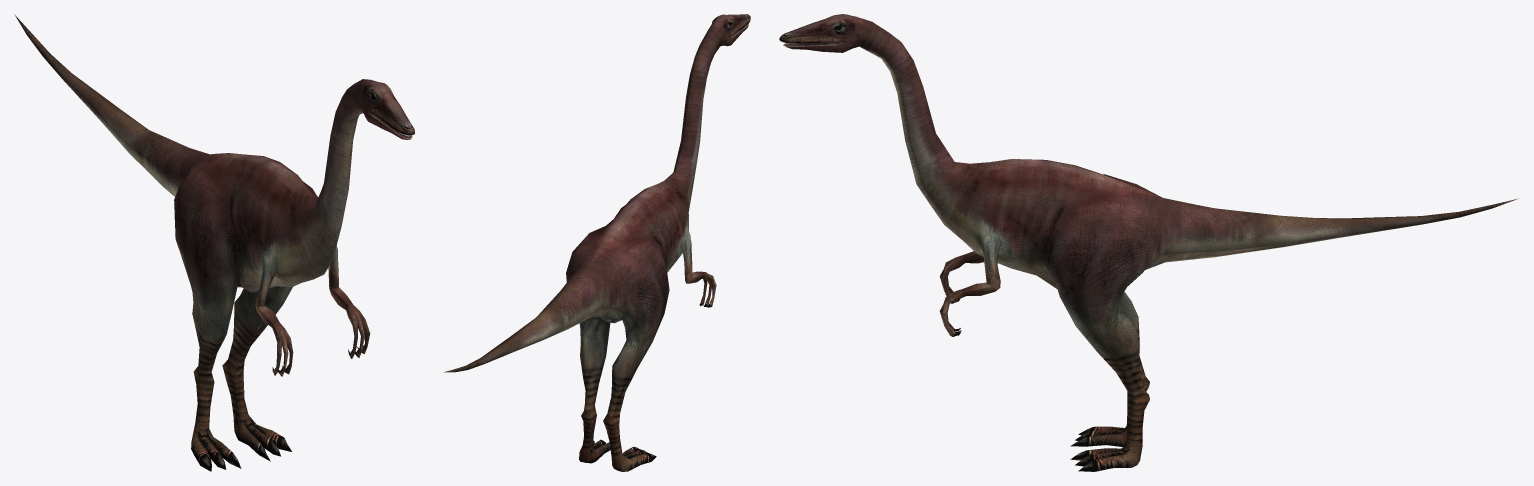
Rendered from compsognathus.glb.
3 views of the same model, side by side, from view 1: azimuth 30°, elevation 25°; view 2: azimuth 150°, elevation 25°; view 3: azimuth 270°, elevation 25° (orthographic). The views are drawn at different scales.
Parts seen in each view (by area): view 1: compsognathus_0; view 2: compsognathus_0; view 3: compsognathus_0.
Boxes of the visible parts, x1,y1,x2,y2 form: compsognathus_0: (14, 14, 414, 471); compsognathus_0: (444, 14, 750, 471); compsognathus_0: (779, 14, 1517, 471).
Size of the model in its own units: 0.077 by 0.3114 by 0.477.
1 material, 1 textured.
